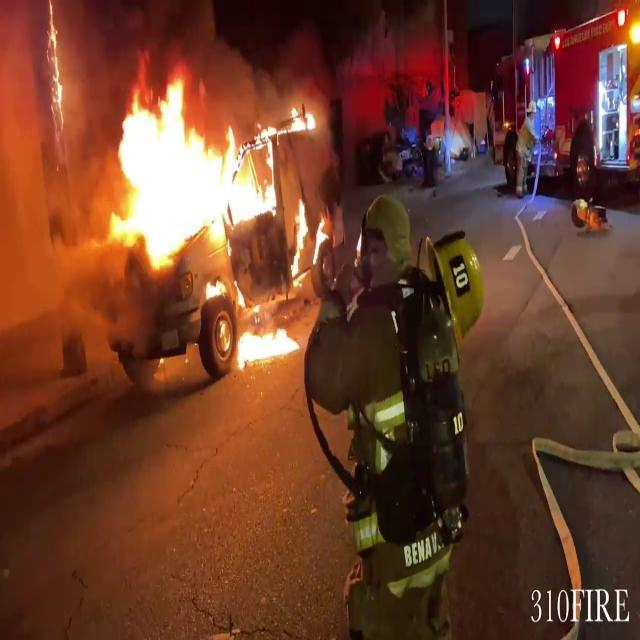Fire: (98, 70, 324, 272), (232, 312, 295, 371)
